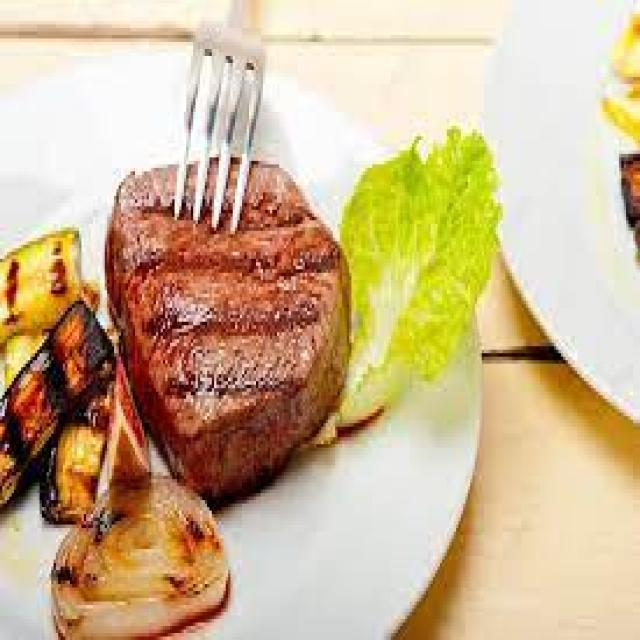Carne: (102, 154, 352, 500)
